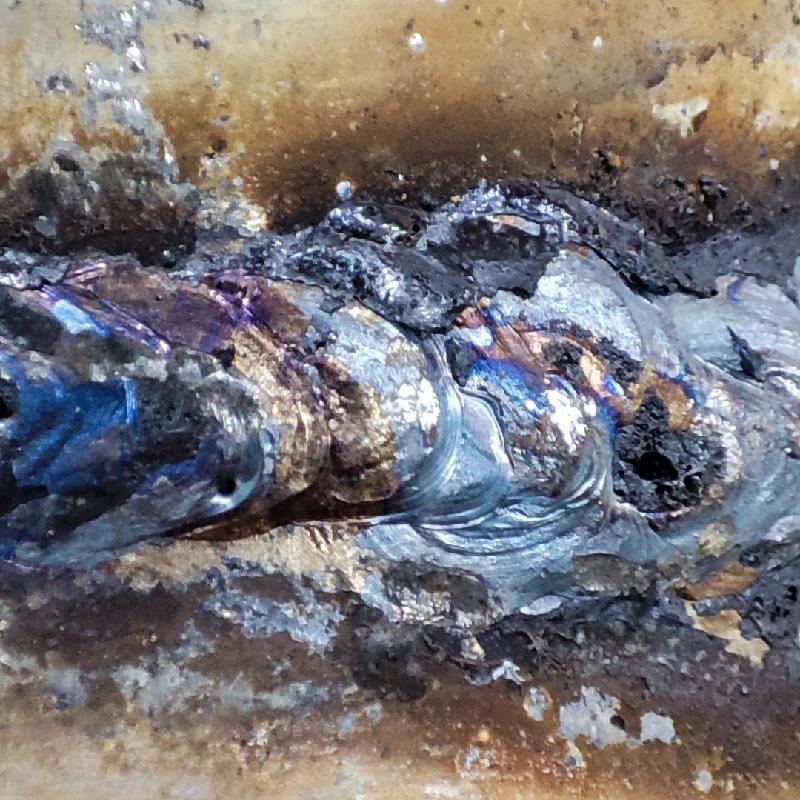Surface_pores: (611, 417, 703, 514), (202, 332, 262, 390), (206, 449, 243, 507)
good: (2, 239, 799, 606)
